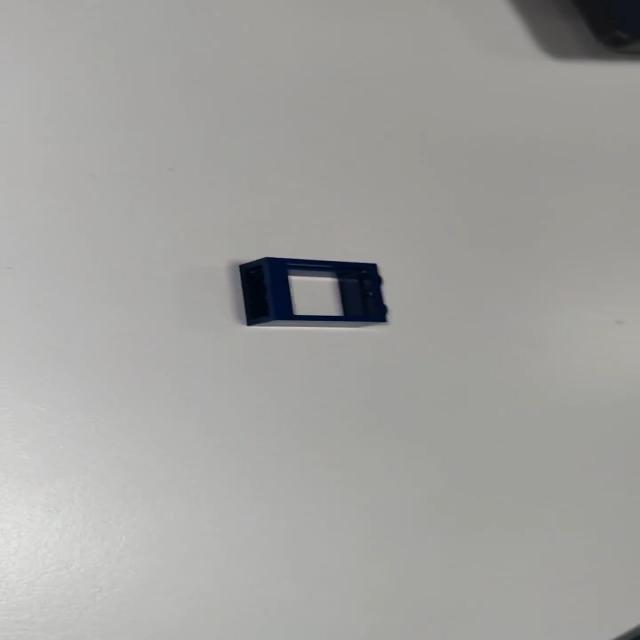W2x1x2: (236, 248, 401, 330)
